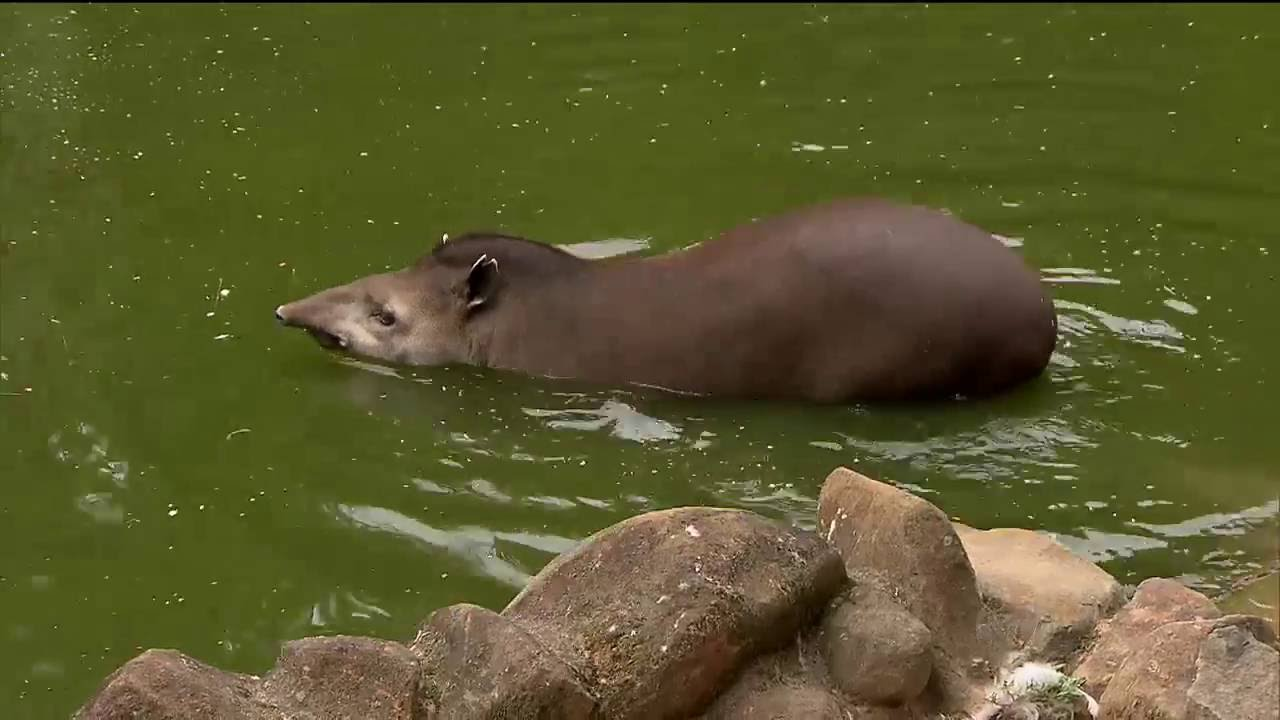Anta: (263, 187, 1082, 411)
